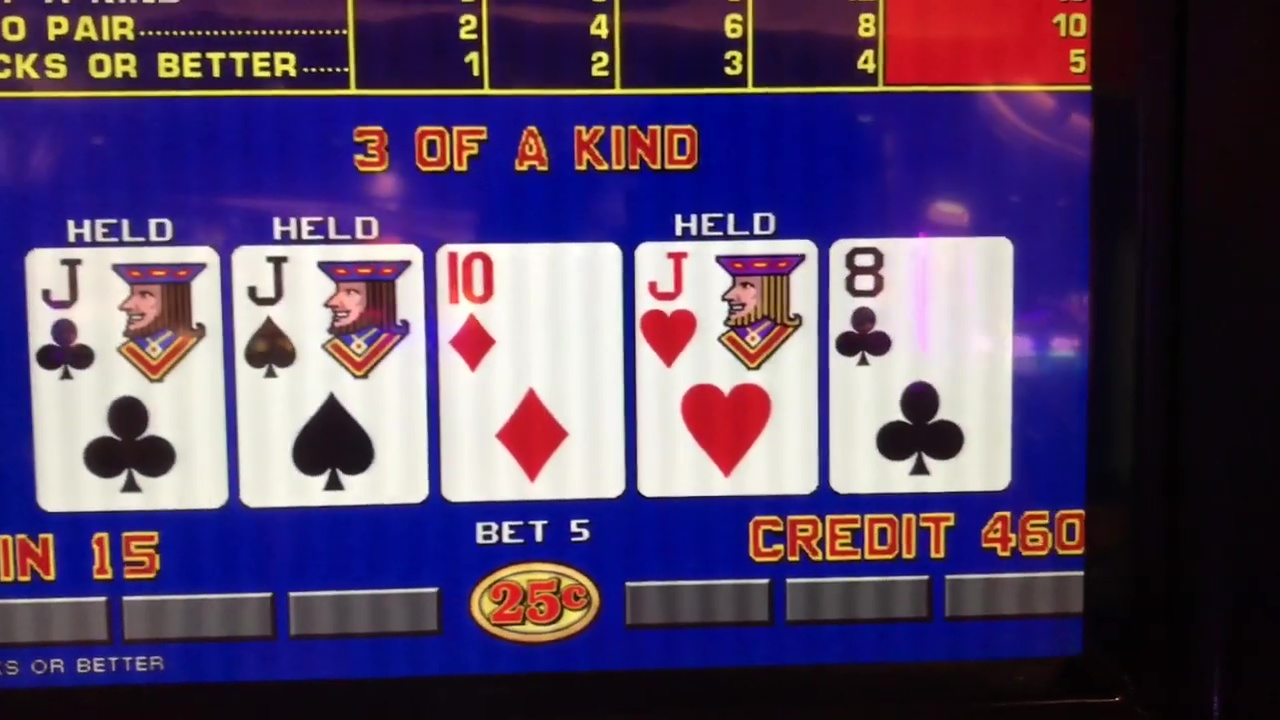C8: (837, 243, 1010, 492)
CJ: (39, 248, 215, 506)
DT: (447, 247, 618, 497)
HJ: (641, 244, 811, 489)
SJ: (238, 246, 419, 504)
